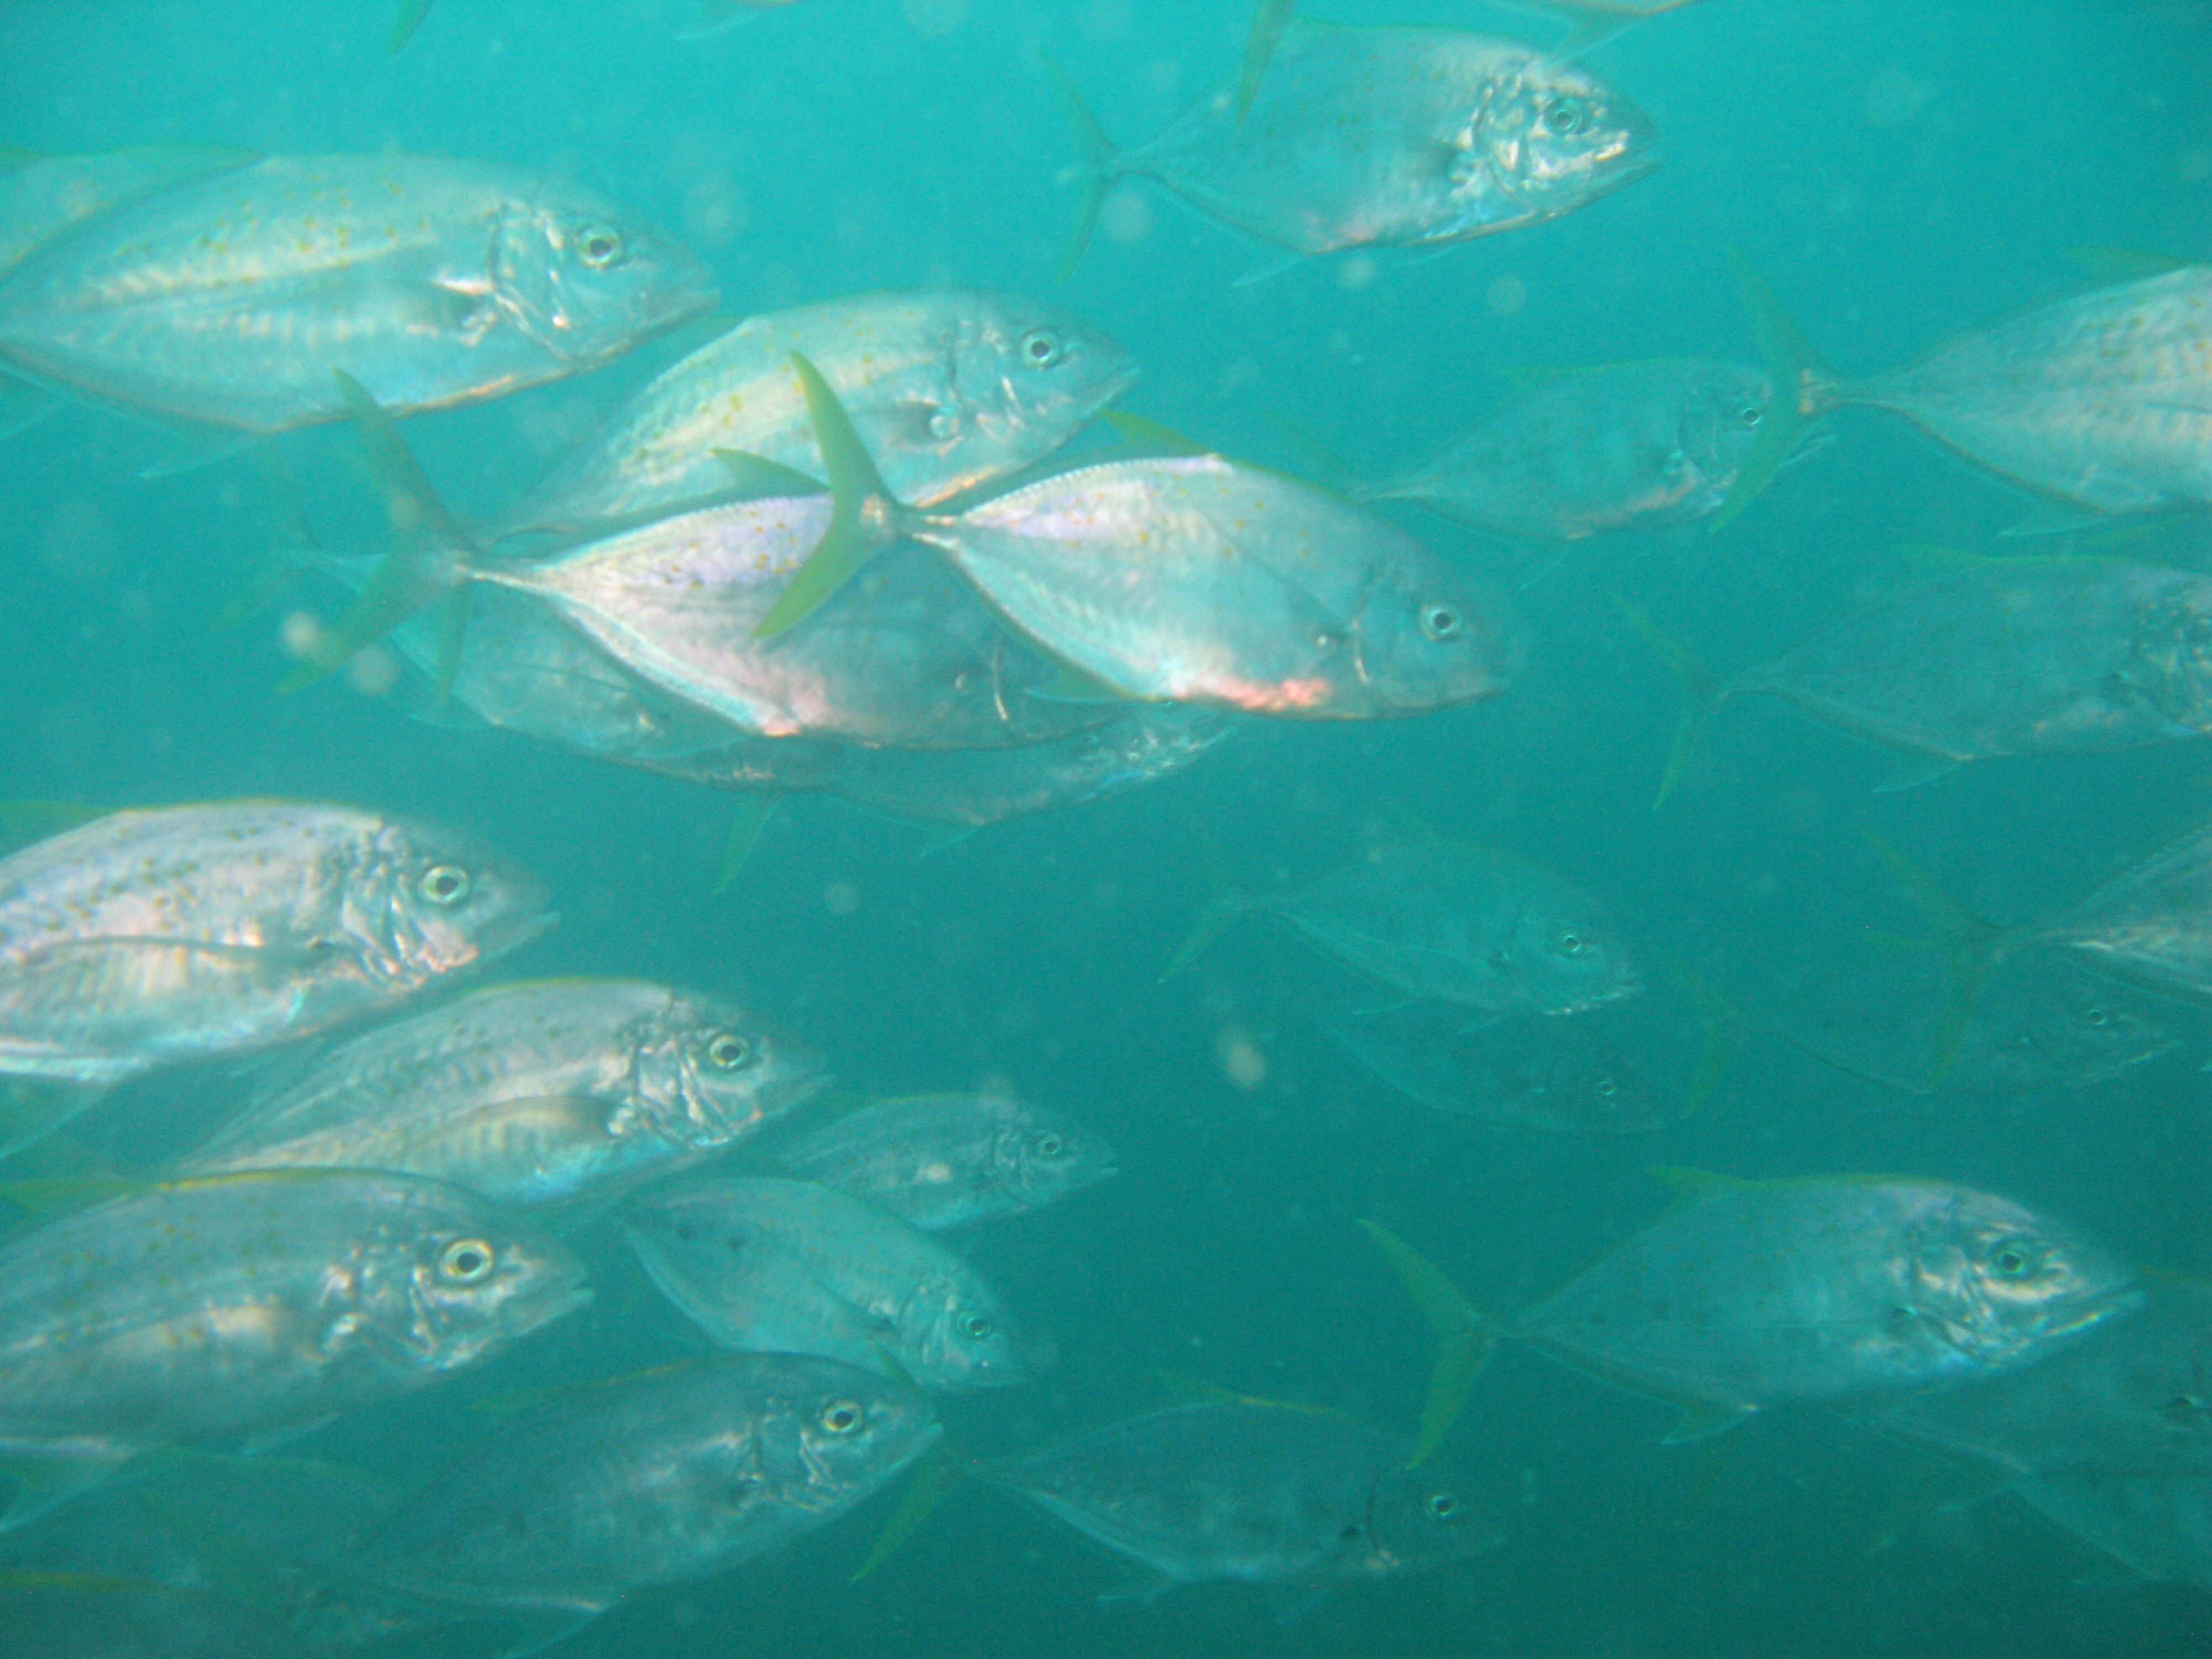Fish: (763, 314, 1519, 760), (1346, 1164, 2144, 1476), (1029, 23, 1674, 291)
